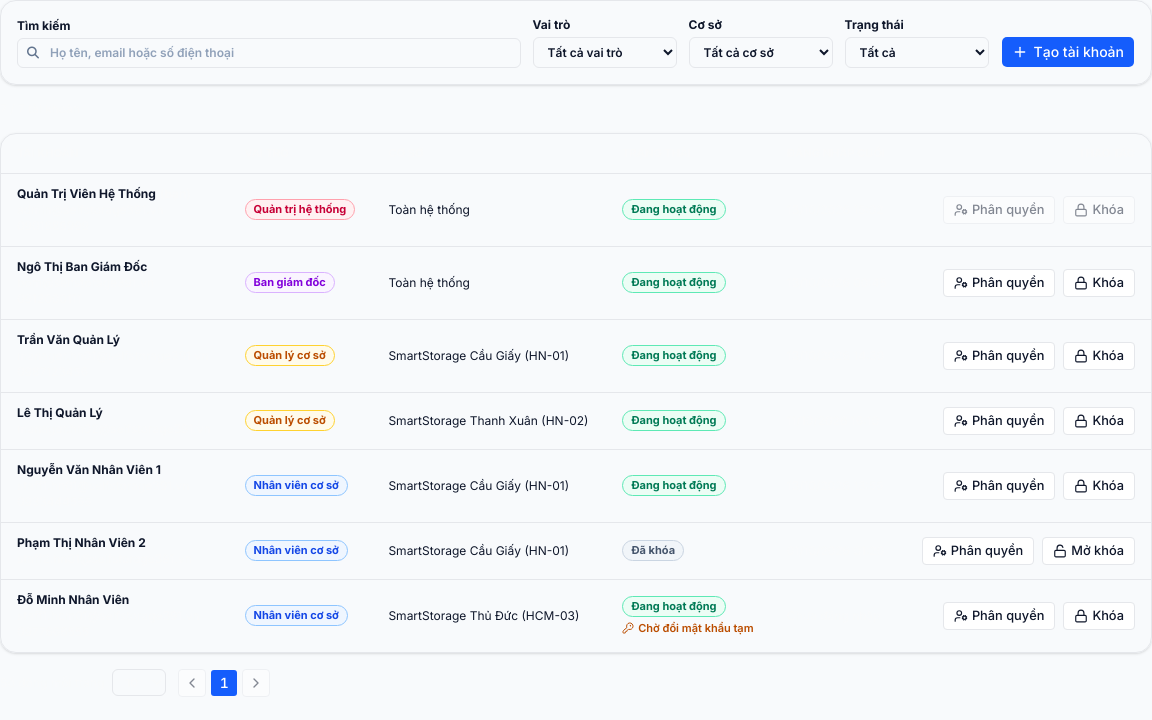
AccountsPanel: Admin quản lý tài khoản nội bộ (US-29) › chọn vai trò Ban giám đốc → ô cơ sở bị khóa ở 'Toàn hệ thống'
Expected: the text "staff1.hn01@selfstorage391.vn" is shown, top-left (17, 478), bottom-right (212, 494)
Click the button "Tạo tài khoản" at (1068, 52), box top-left (1001, 36), bottom-right (1135, 68)
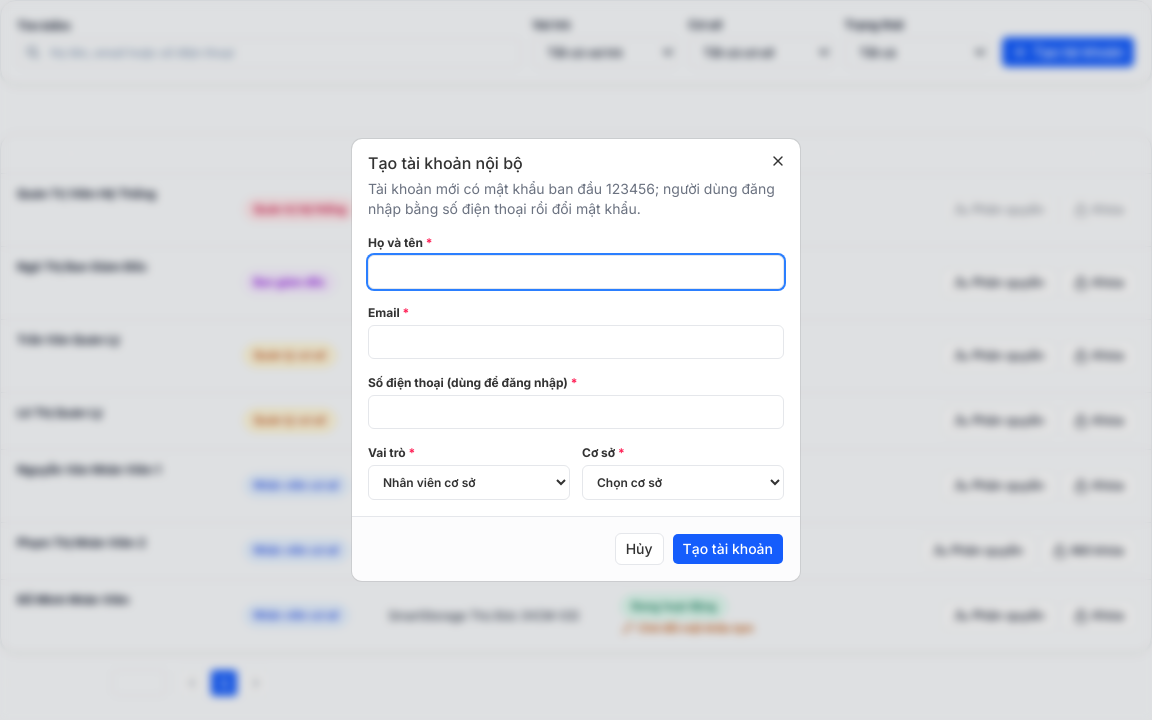
Select "Ban giám đốc" in the dropdown labelled "Vai trò *" at (469, 482), box top-left (368, 465), bottom-right (570, 500)
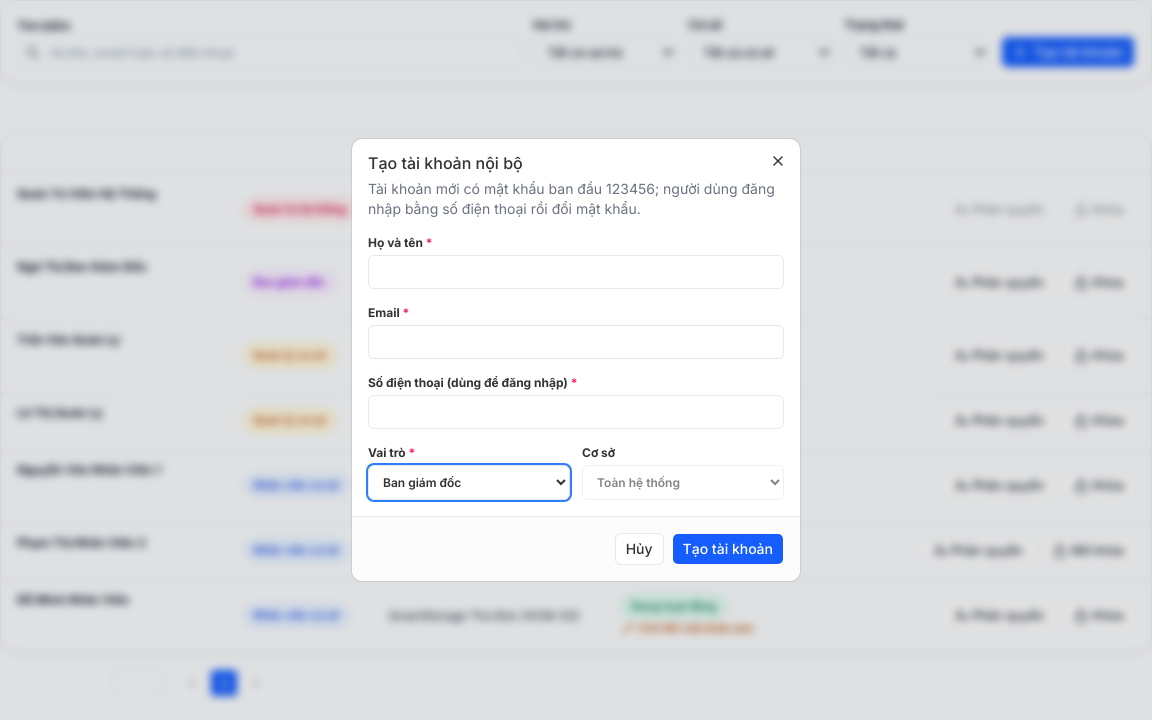
Expected: the dropdown labelled "Cơ sở" is disabled, top-left (582, 465), bottom-right (784, 500)
Expected: the dropdown labelled "Cơ sở" shows "Toàn hệ thống", top-left (582, 465), bottom-right (784, 500)
